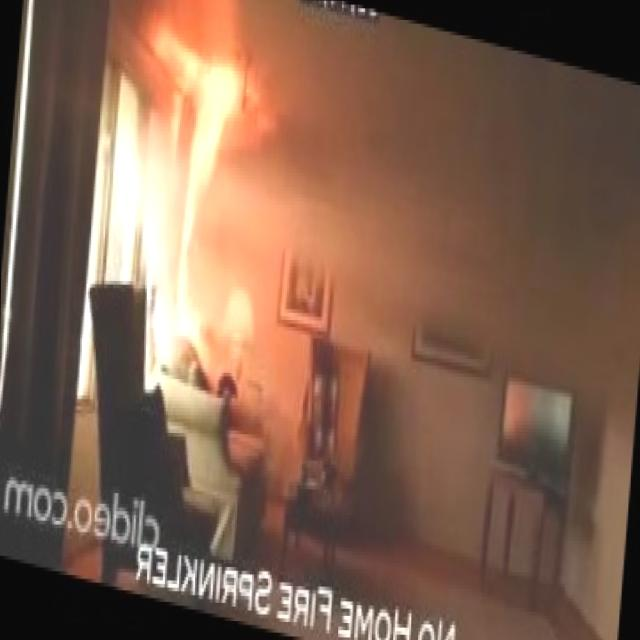fire: (118, 0, 281, 409)
